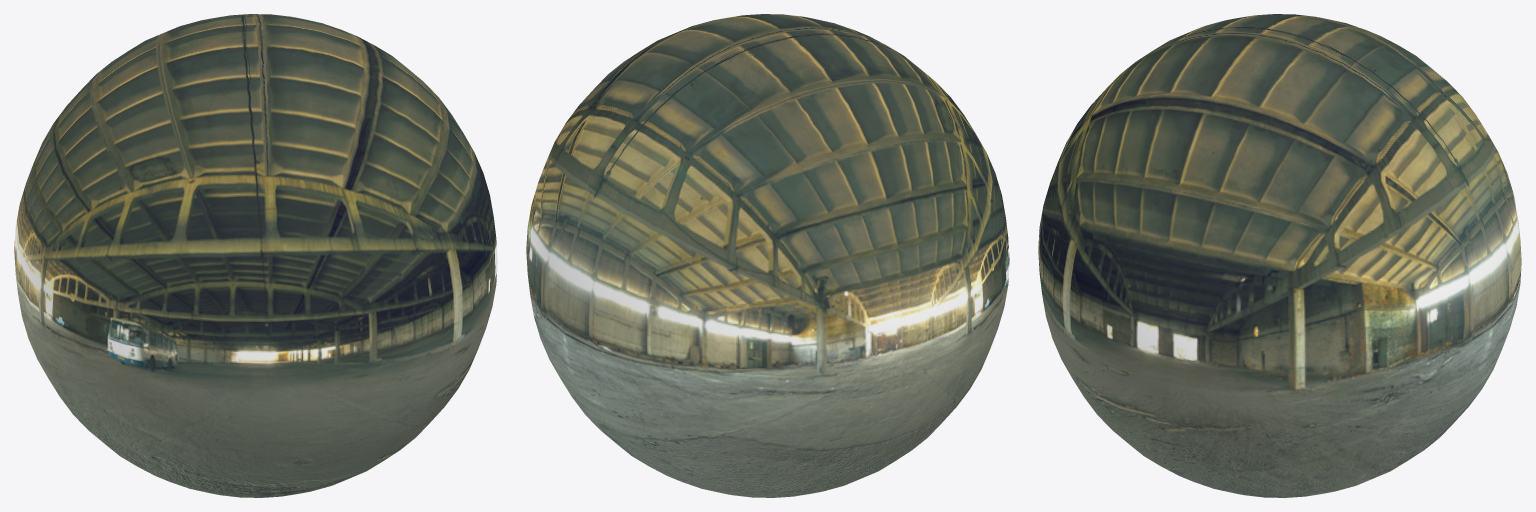
File: dr._strange_portal.glb
The picture shows the model from 3 angles, left to right: view 1: azimuth 30°, elevation 25°; view 2: azimuth 150°, elevation 25°; view 3: azimuth 270°, elevation 25°; orthographic projection.
Parts seen in each view (by area): view 1: env_old_bus_depot_geo; view 2: env_old_bus_depot_geo; view 3: env_old_bus_depot_geo.
Part boxes in pixels (bbox=[...]): env_old_bus_depot_geo: bbox=[14, 14, 497, 497]; env_old_bus_depot_geo: bbox=[526, 14, 1009, 497]; env_old_bus_depot_geo: bbox=[1038, 14, 1521, 497].
Size of the model in its own units: 83.9 by 83.33 by 83.87.
95 materials, 95 textured.
